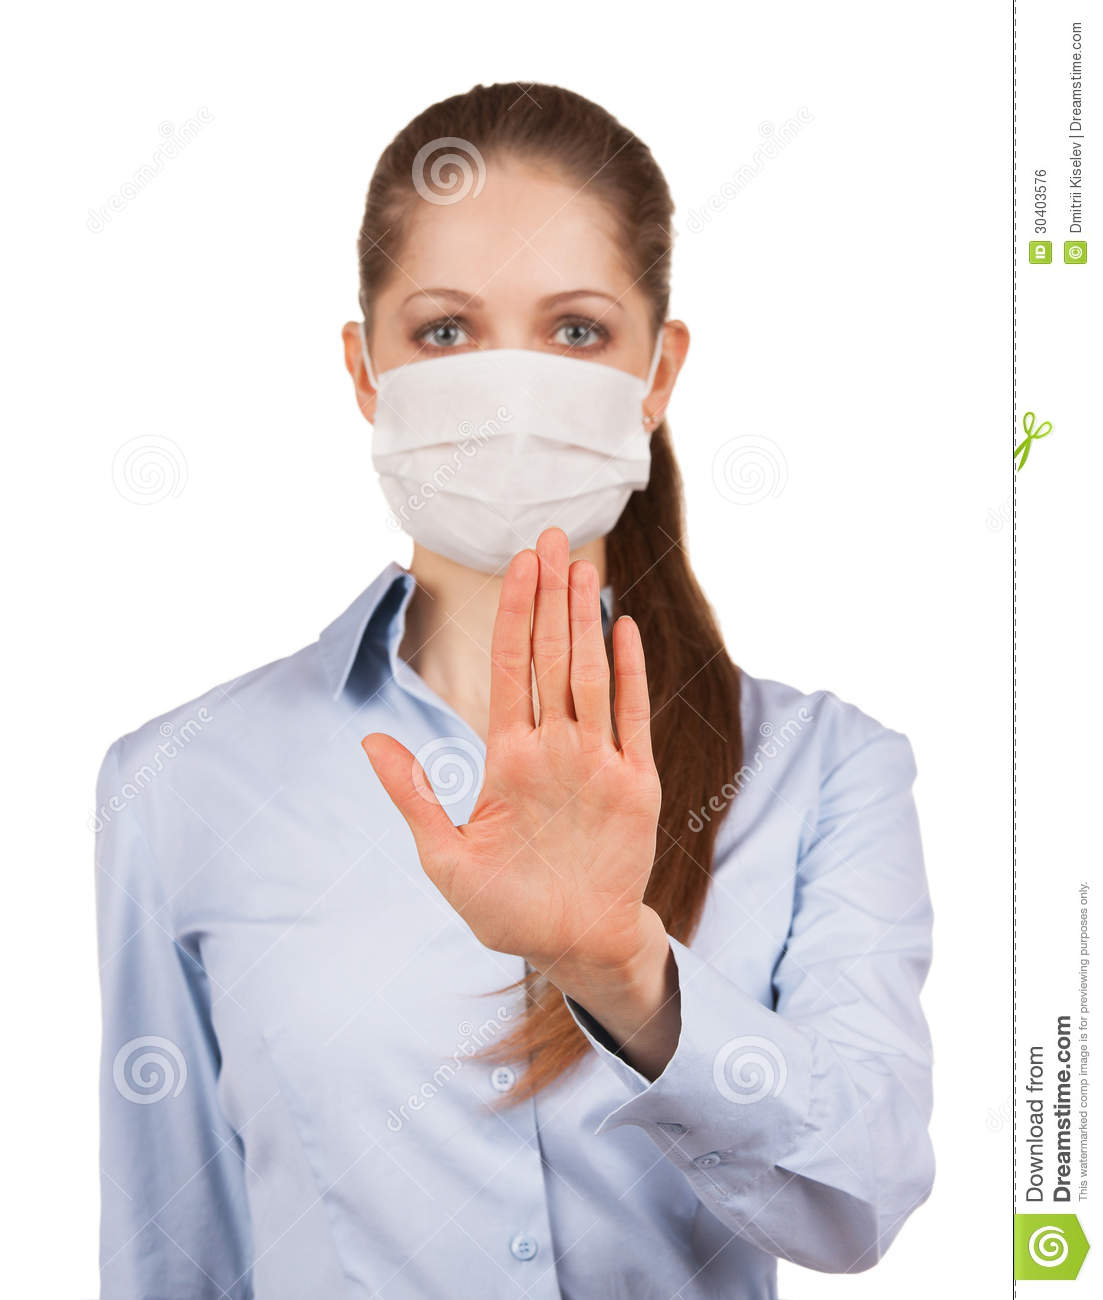mask: (369, 355, 651, 581)
